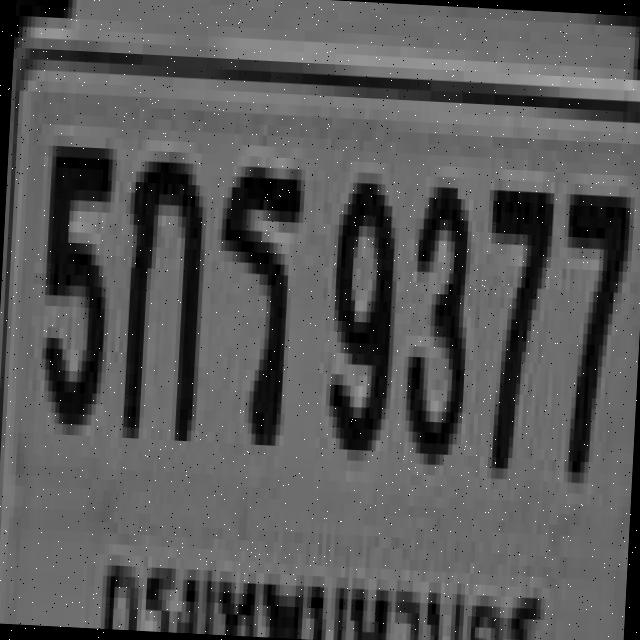10GorGai: (115, 139, 206, 431)
3: (400, 176, 470, 456)
44RorRuea: (207, 154, 302, 436)
5: (34, 135, 110, 426)
7: (552, 183, 627, 474), (476, 179, 550, 470)
9: (324, 160, 394, 452)
